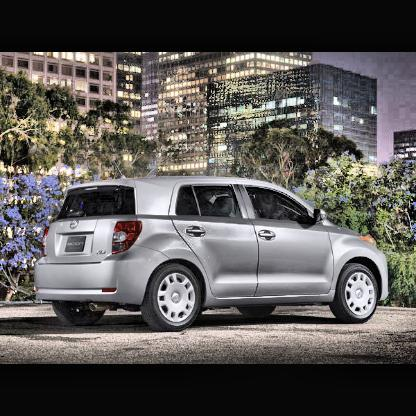Scion xD Hatchback 2012: (31, 177, 391, 332)
